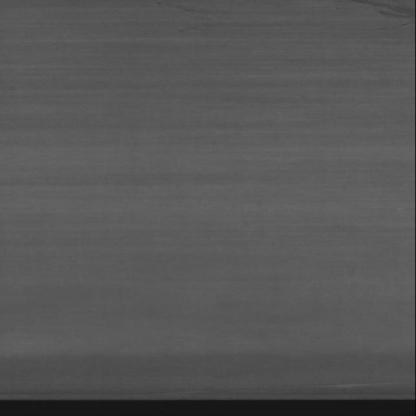water_spot: (334, 0, 415, 28)
